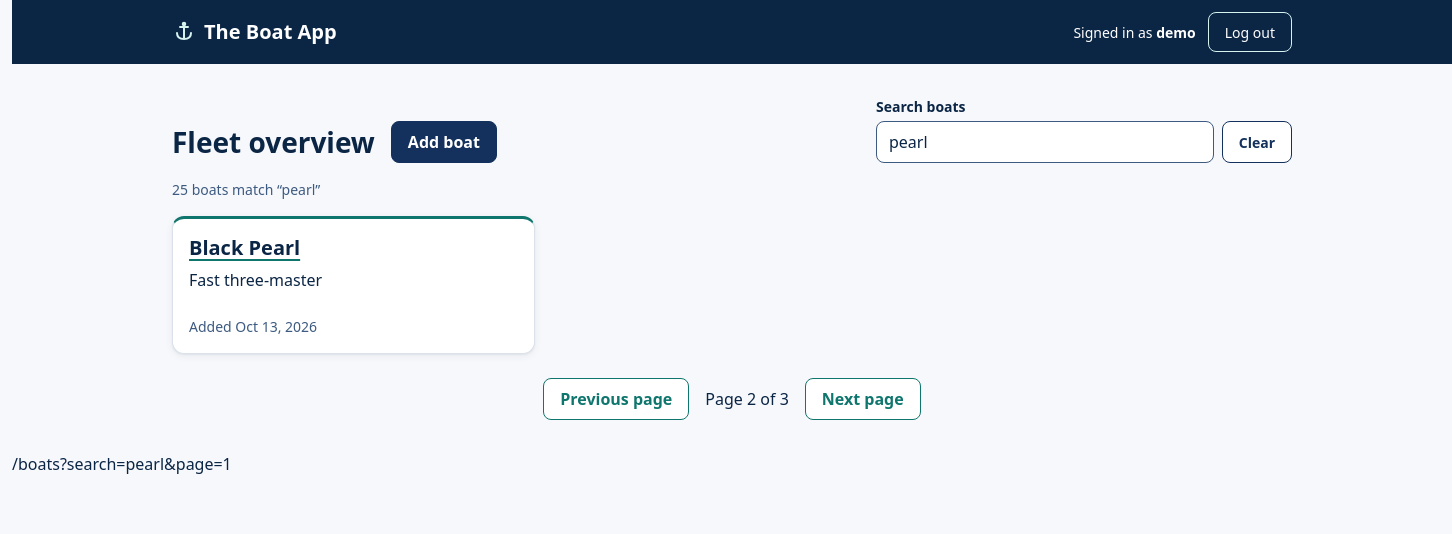
BoatDetailPage › opens a boat from the fleet and returns to the same search and page
Click the link "Black Pearl": (245, 248) [189,234,300,261]
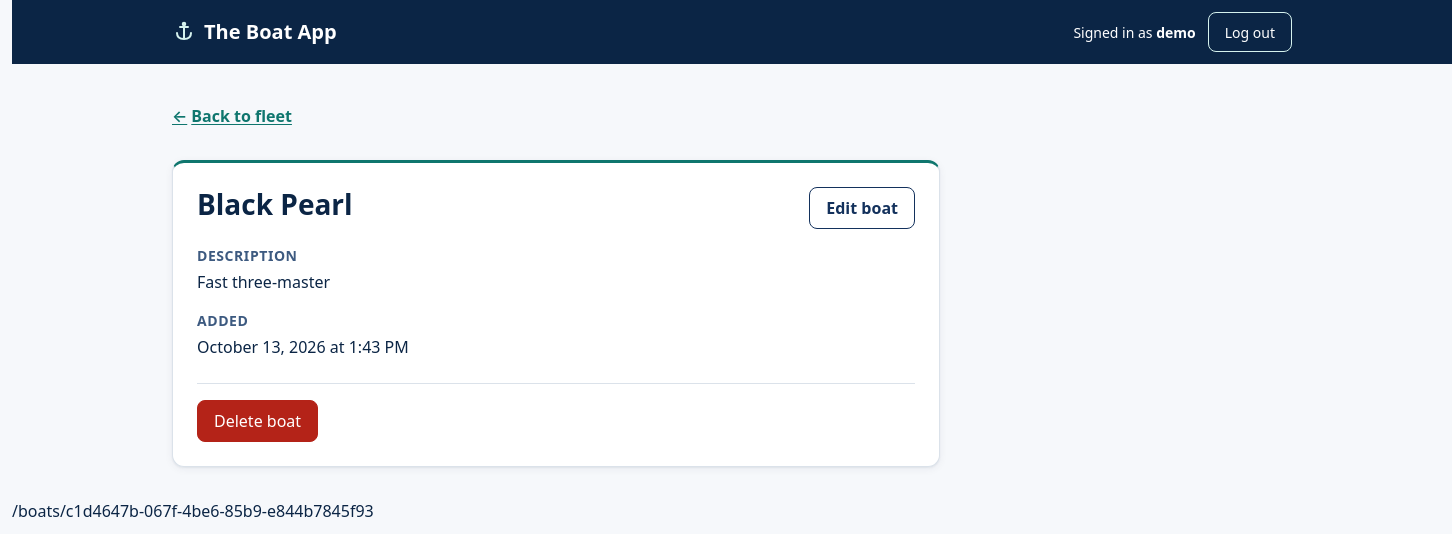
Check: the heading "Black Pearl" is shown, box [197,187,353,222]
Click the link "← Back to fleet": (232, 116) [172,105,292,127]
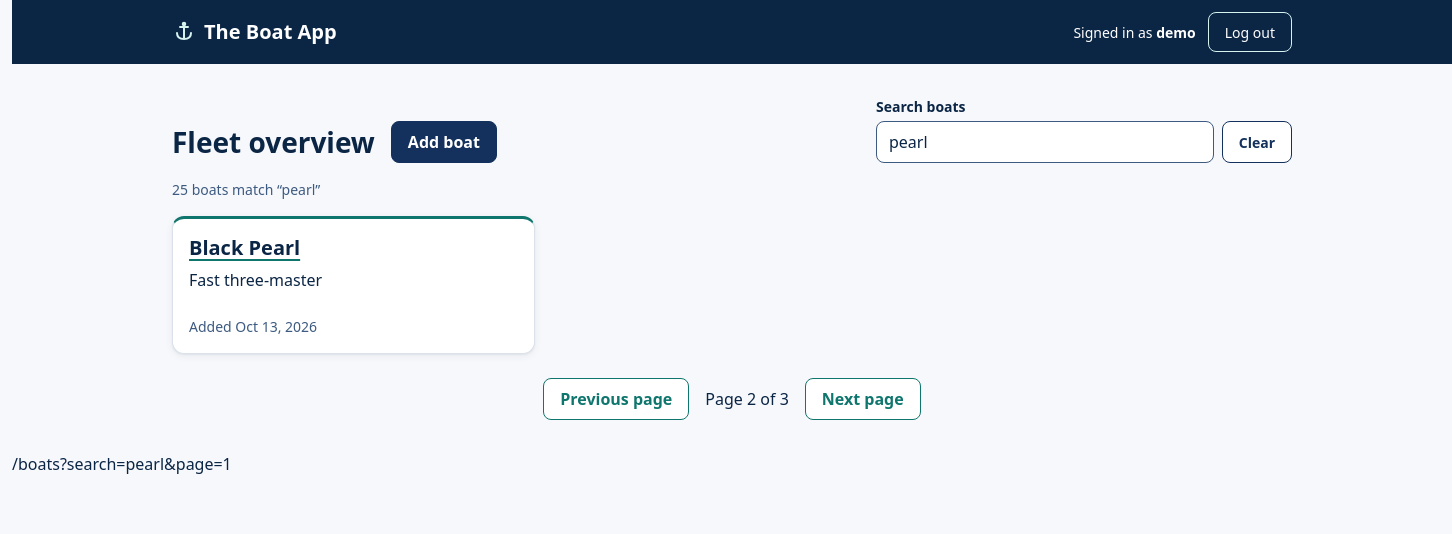
Check: the text with test id "location" reads "/boats?search=pearl&page=1", box [12,453,232,475]
Check: the search field labelled "Search boats" holds "pearl", box [876,121,1214,163]
Check: the text "Page 2 of 3" is shown, box [705,387,789,411]
